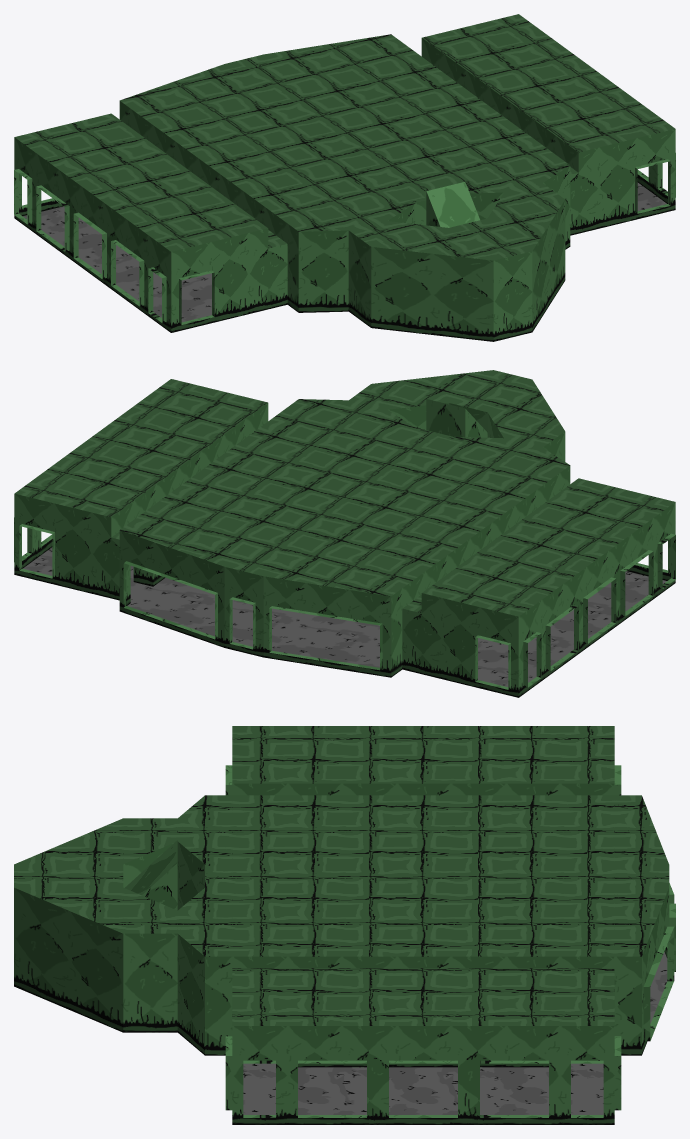
Rendered from level1.glb.
The picture shows the model from 3 angles, top to bottom: view 1: azimuth 30°, elevation 25°; view 2: azimuth 150°, elevation 25°; view 3: azimuth 270°, elevation 25°; orthographic projection. The views are drawn at different scales.
Parts seen in each view (by area): view 1: everything-col, wall-col, floor-col; view 2: everything-col, wall-col, floor-col; view 3: everything-col, wall-col, floor-col.
Part boxes in pixels (x1,y1,x2,y2): everything-col: [14, 14, 675, 260]; wall-col: [14, 38, 675, 341]; floor-col: [23, 182, 666, 322]; everything-col: [15, 370, 674, 616]; wall-col: [14, 399, 675, 697]; floor-col: [23, 547, 666, 686]; everything-col: [14, 726, 669, 1025]; wall-col: [14, 765, 675, 1124]; floor-col: [243, 952, 667, 1114].
Size of the model in its own units: 26.5 by 5 by 24.25.
Materials: 3 (3 with a texture image).
